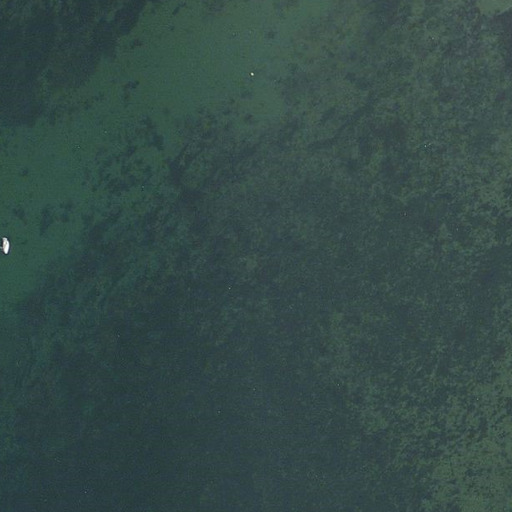ship: (1, 235, 11, 258)
